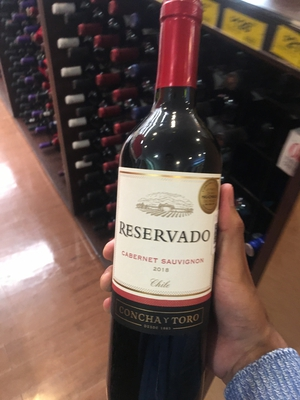reservado cabernet sauvignon: (110, 10, 228, 400)
